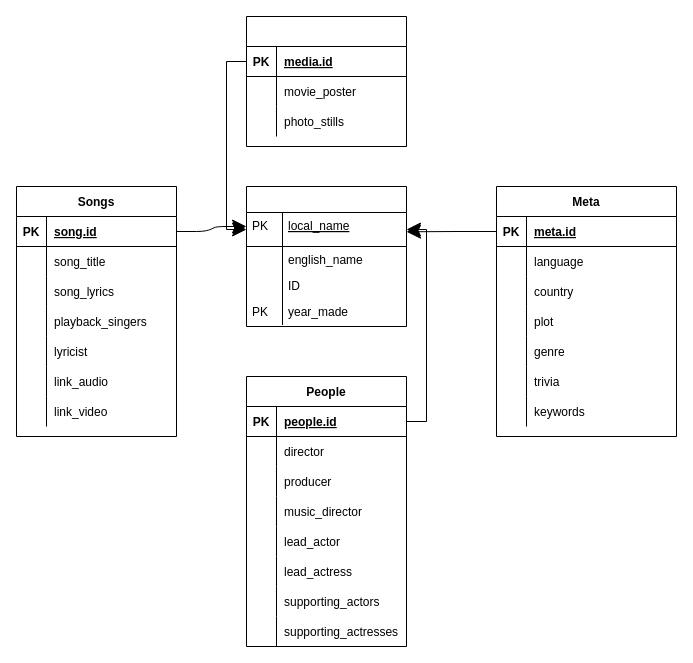
This 693x663 diagram has some shape labels left out. The box of each missing label's shape, as (x1, y1, x2, y2) in pixels:
Movie: (246, 186, 406, 326)
Multi-media: (246, 16, 406, 146)
